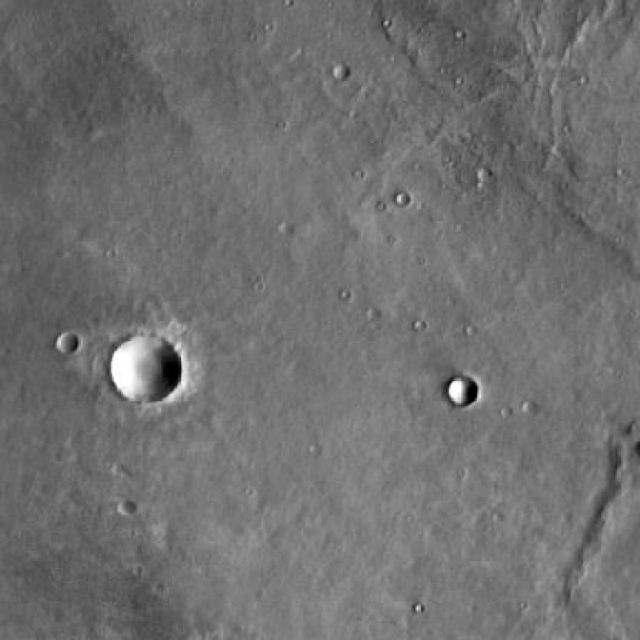crater: (0, 0, 640, 640), (109, 331, 183, 402), (450, 376, 481, 406), (56, 331, 76, 351), (115, 498, 133, 516), (519, 395, 536, 411), (330, 66, 347, 82)
